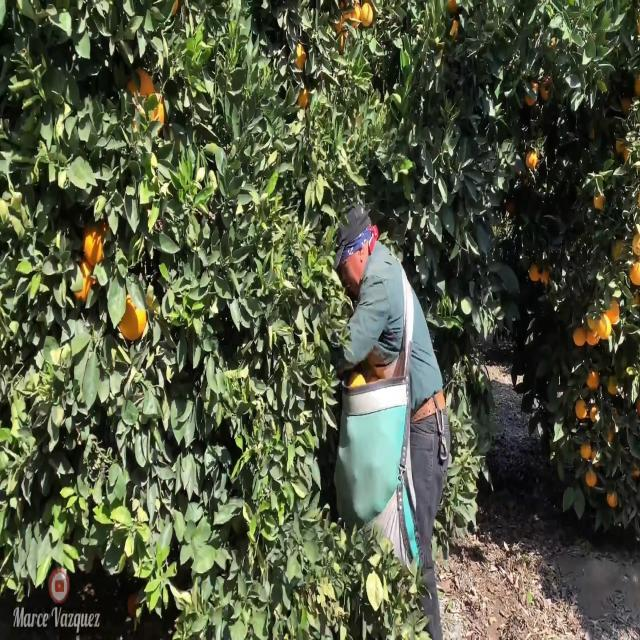Jeruk Sudah Matang: (118, 292, 150, 347), (124, 70, 154, 118), (84, 220, 112, 263), (70, 260, 96, 304), (290, 42, 308, 74), (603, 296, 620, 326), (524, 81, 538, 111), (526, 144, 540, 173), (571, 322, 586, 349), (360, 4, 374, 29), (629, 256, 640, 286), (598, 317, 612, 340), (297, 86, 310, 109), (606, 375, 619, 398), (528, 260, 540, 284), (586, 368, 598, 391), (575, 399, 587, 421), (606, 491, 618, 512), (580, 442, 592, 462), (630, 234, 640, 258), (584, 471, 596, 490), (540, 266, 550, 286), (592, 190, 600, 210)
